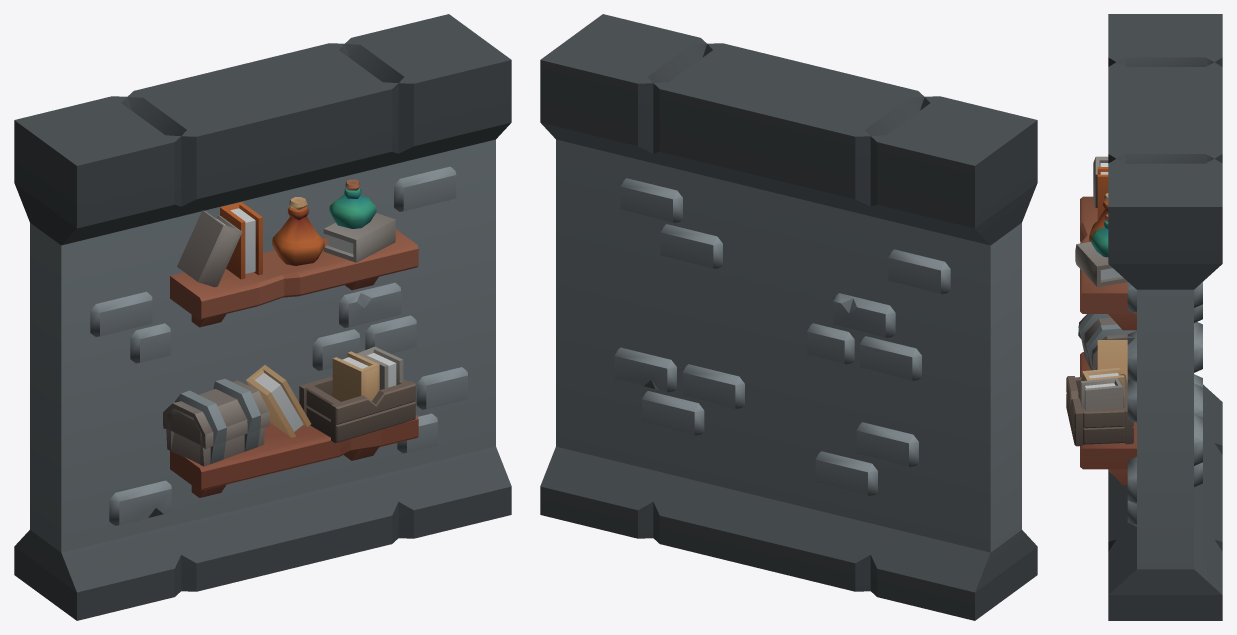
Rendered from wall_shelves.glb.
3 renders of one model, left to right at view 1: azimuth 30°, elevation 25°; view 2: azimuth 150°, elevation 25°; view 3: azimuth 270°, elevation 25°, orthographic. The views are drawn at different scales.
Visible parts, largest first — view 1: wall_shelves; view 2: wall_shelves; view 3: wall_shelves.
Boxes of the visible parts, <box> form: wall_shelves: <box>14,14,511,620</box>; wall_shelves: <box>540,14,1037,620</box>; wall_shelves: <box>1066,14,1222,620</box>.
Bounding box in the file's own units: 4 × 4 × 1.37.
